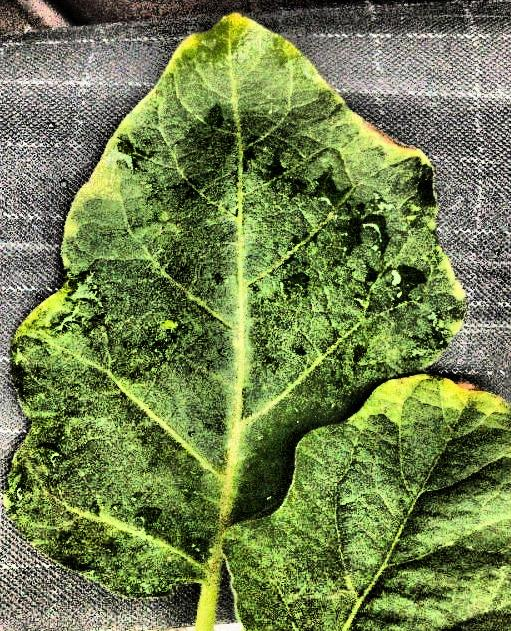Non-critical Stress: (1, 0, 511, 631)
